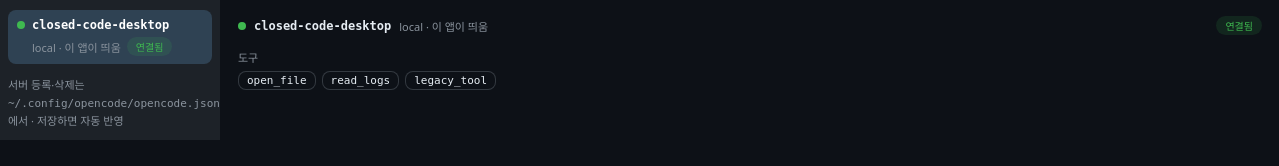
it: 도구를 고르면 설명이 열린다 › 누르면 그 도구의 설명이 뜬다
What coordinates should you click on to do the following:
click the button "open_file"
I would click on:
 (277, 80)
Its box is x1=238 y1=71 x2=316 y2=90.
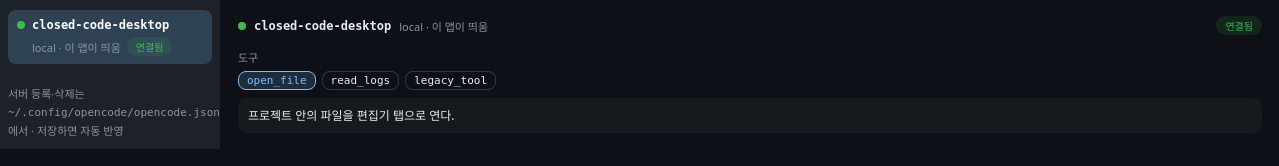
Now the text "프로젝트 안의 파일을 편집기 탭으로 연다." is shown, box x1=238 y1=98 x2=1262 y2=133
